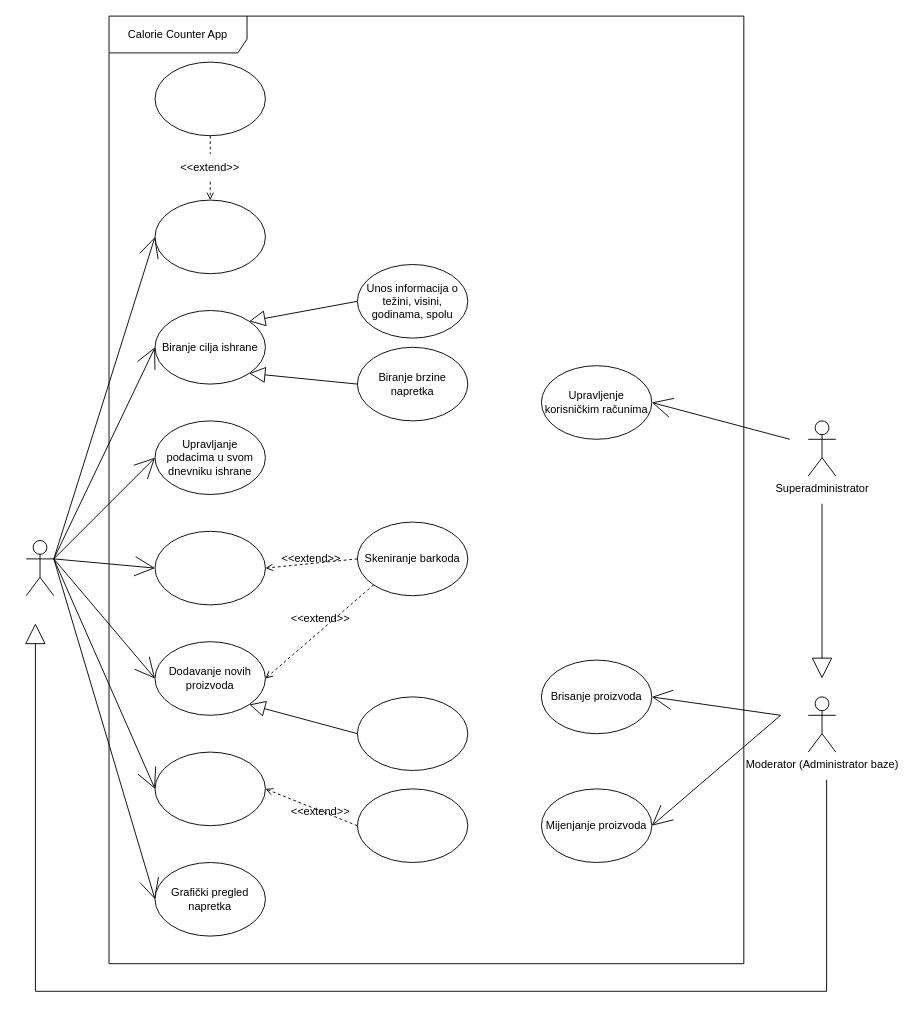
The diagram is 914 pixels wide and 1028 high, and some of its shapes have lost their labels. Here are the shapes that lost their labels. From the top down, the centre of each, then its label:
At point 209,98: "Registracija".
At point 209,236: "Prijava na sustav".
At point 39,568: "Korisnik".
At point 209,567: "Pretraživanje proizvoda".
At point 412,733: "Unos naziva i kalorija po porciji".
At point 209,788: "Prikaz podataka o trenutnom dnevnom unosu".
At point 412,825: "Prikaz makro i mikronutrijenata u tom danu".
